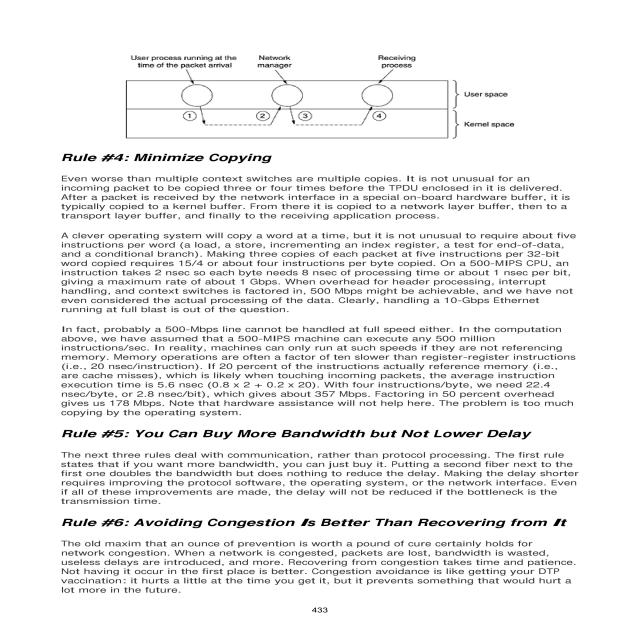diagram: (67, 33, 563, 154)
